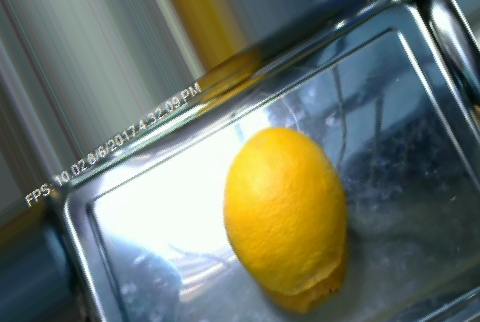Orange: (223, 127, 348, 294)
